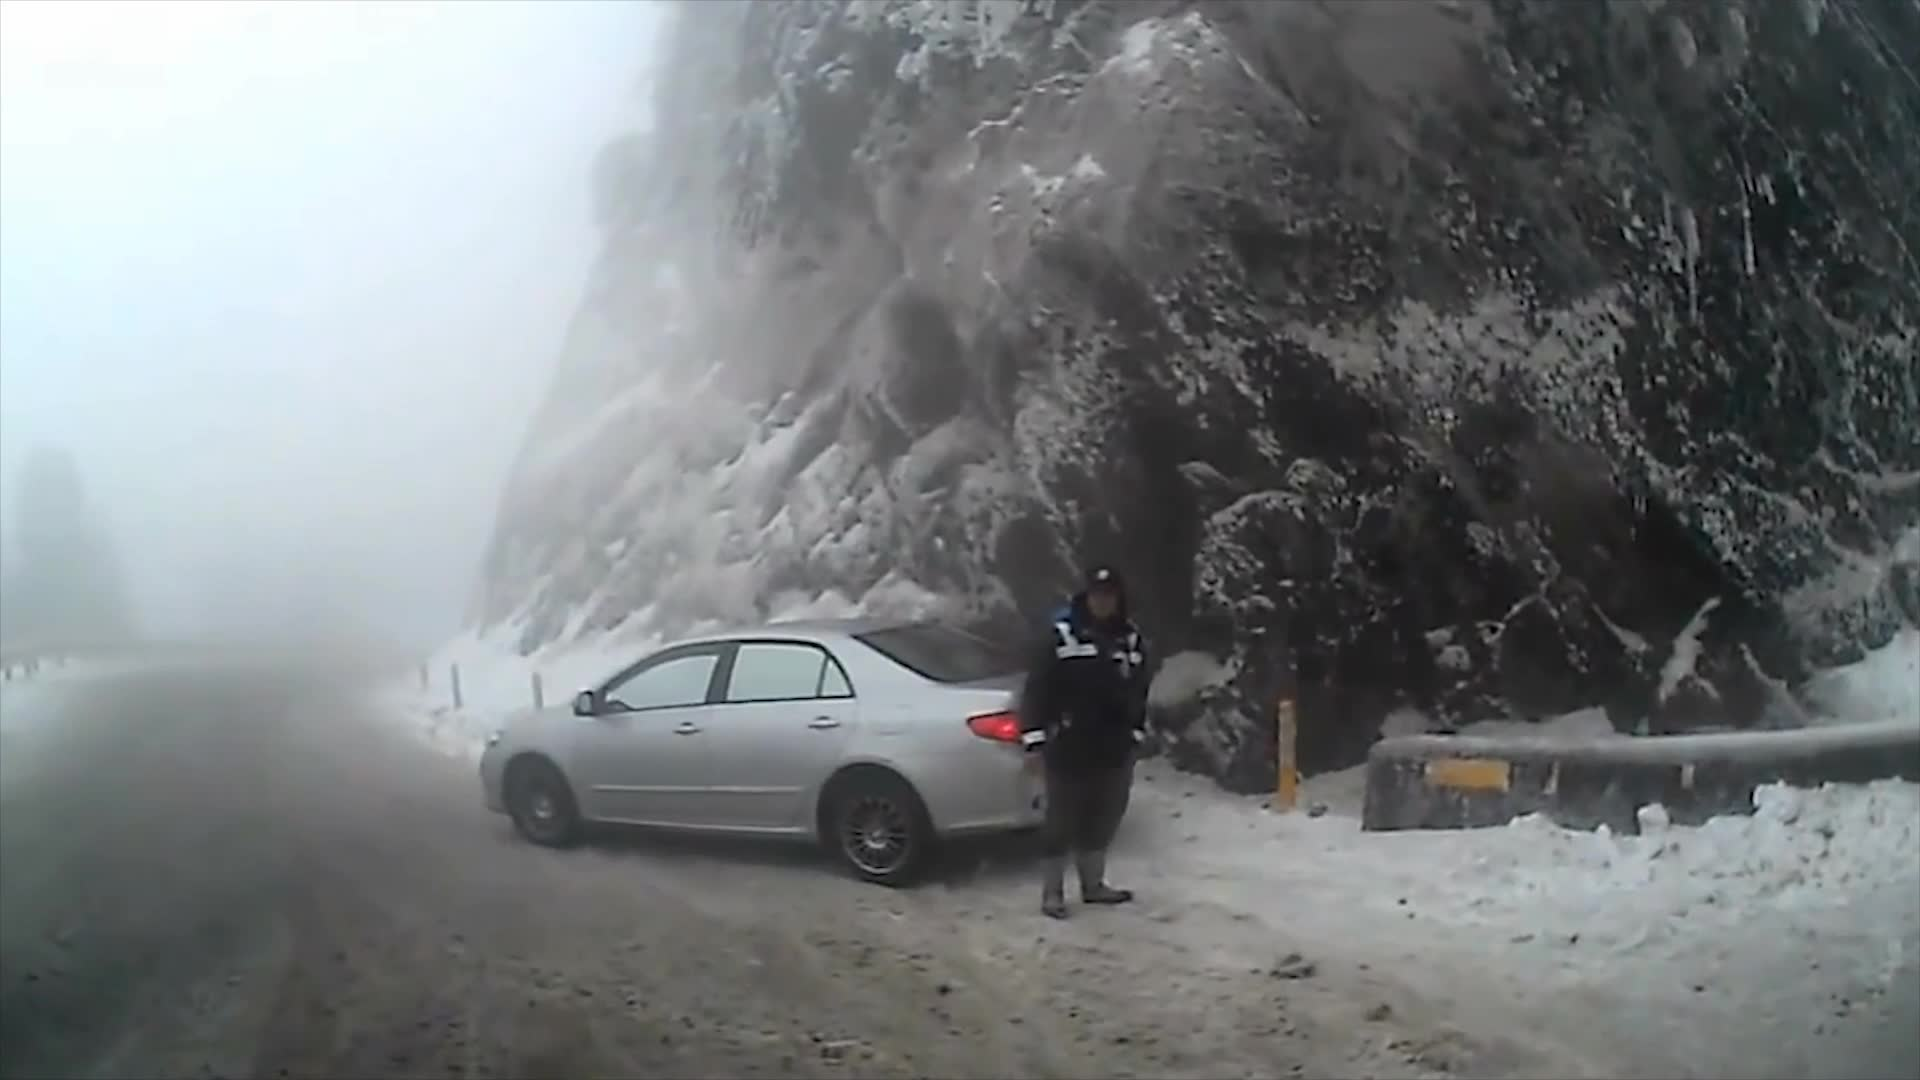pedestrian: (1026, 570, 1157, 922)
vehicle: (478, 615, 1134, 886)
